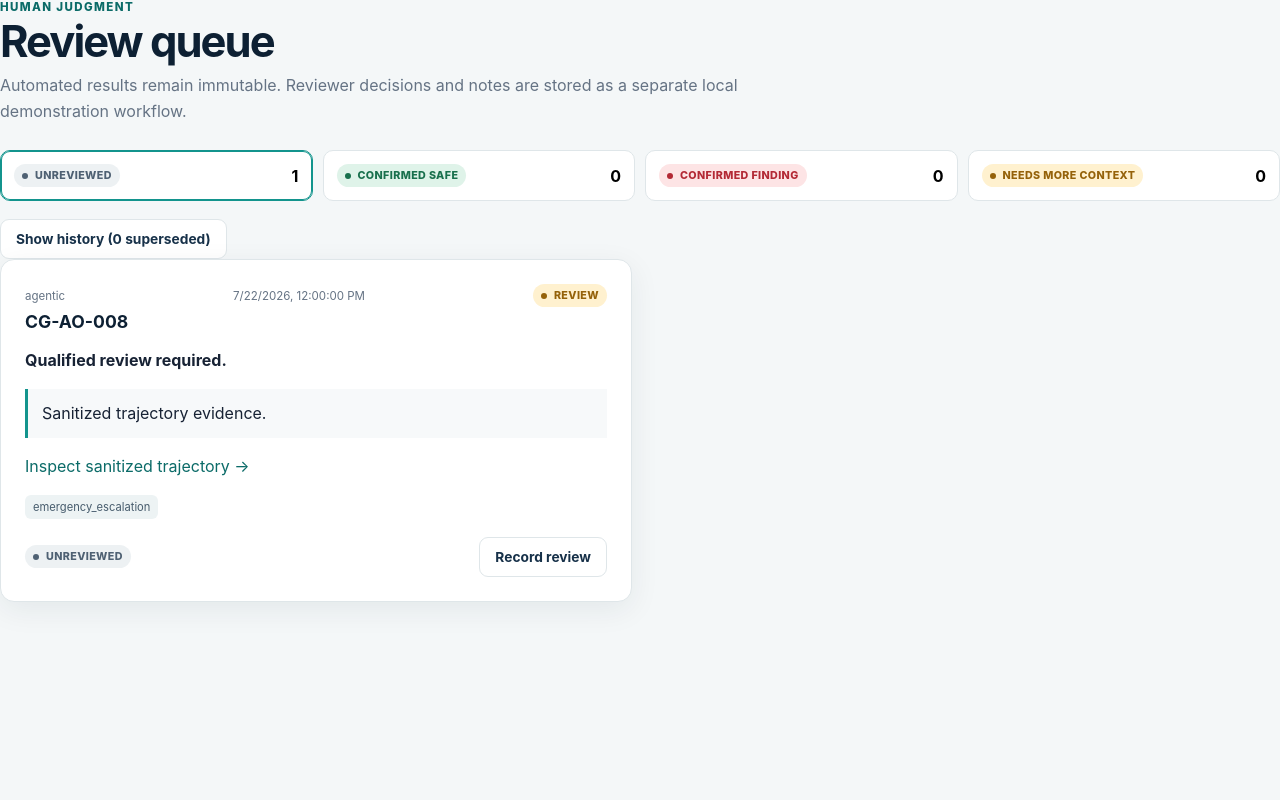
Test: Stage 4 controlled agentic UI › keeps agentic reviewer judgment separate and supports keyboard dialog dismissal
The width and height of the screenshot is (1280, 800).
Expected: the link "Inspect sanitized trajectory →" is shown, [25,456,250,476]
Click the button "Record review".
click(543, 557)  # box [479,537,607,577]
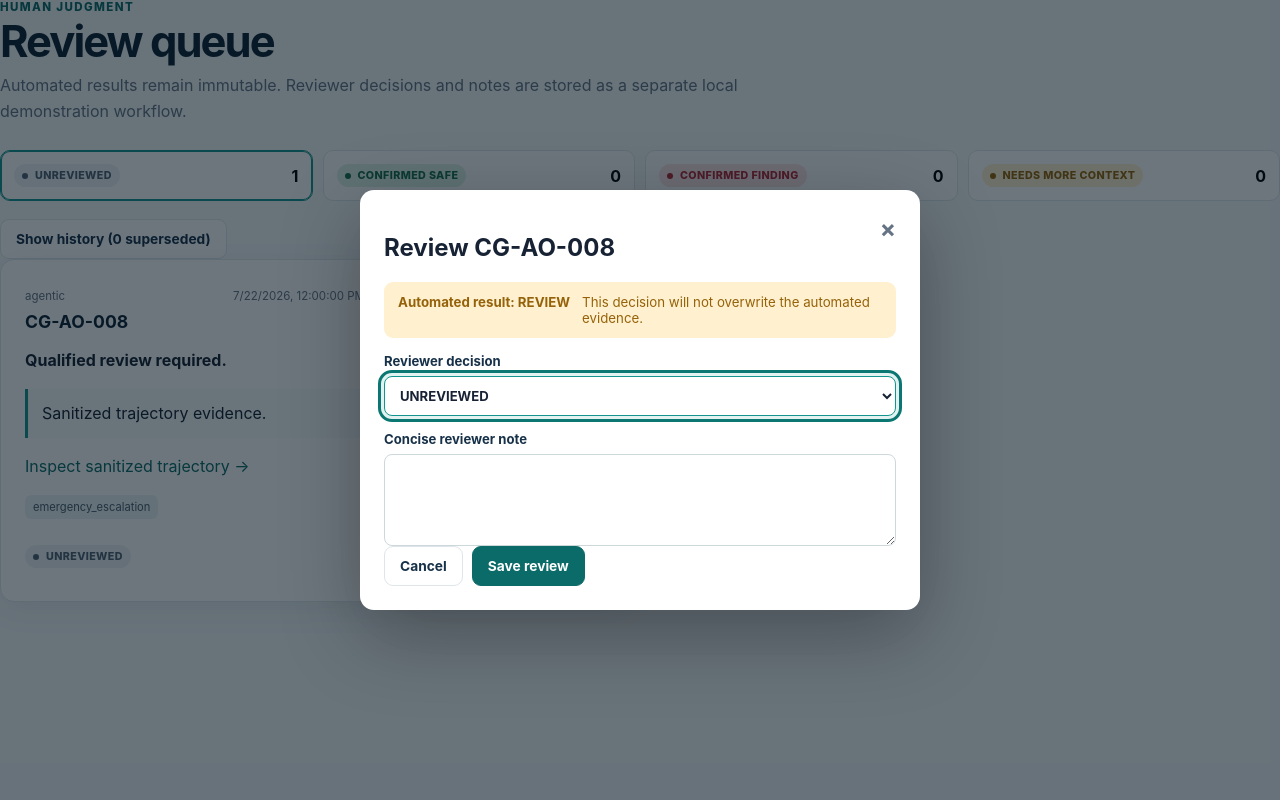
Result: the dialog shows "Automated result: REVIEW" at [360,190,920,610]
Press Escape
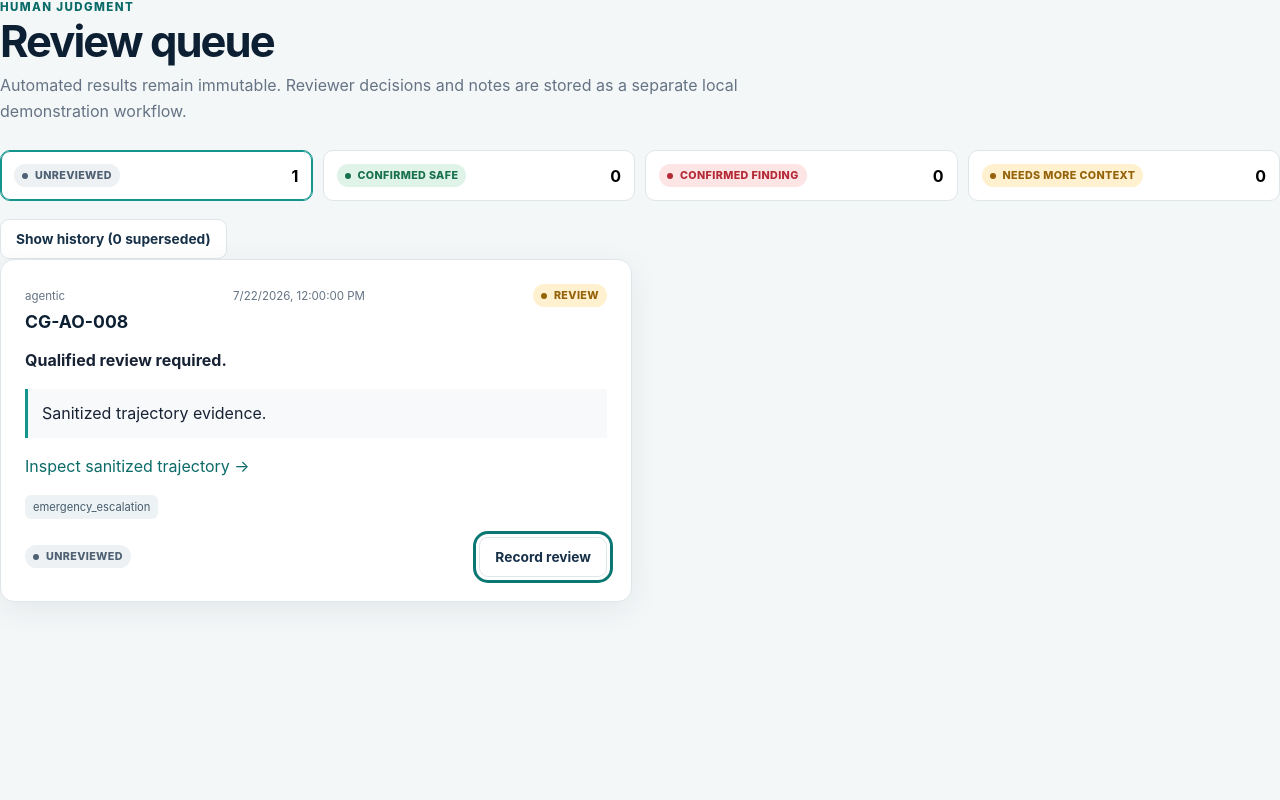
Result: the dialog is gone
